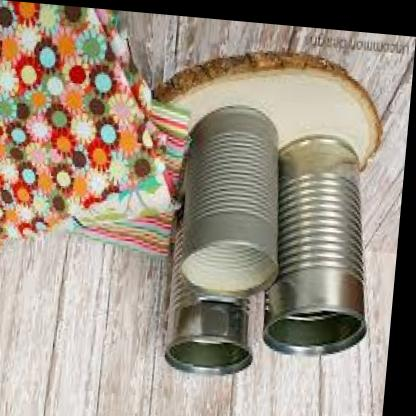Metal: (148, 113, 402, 407)
